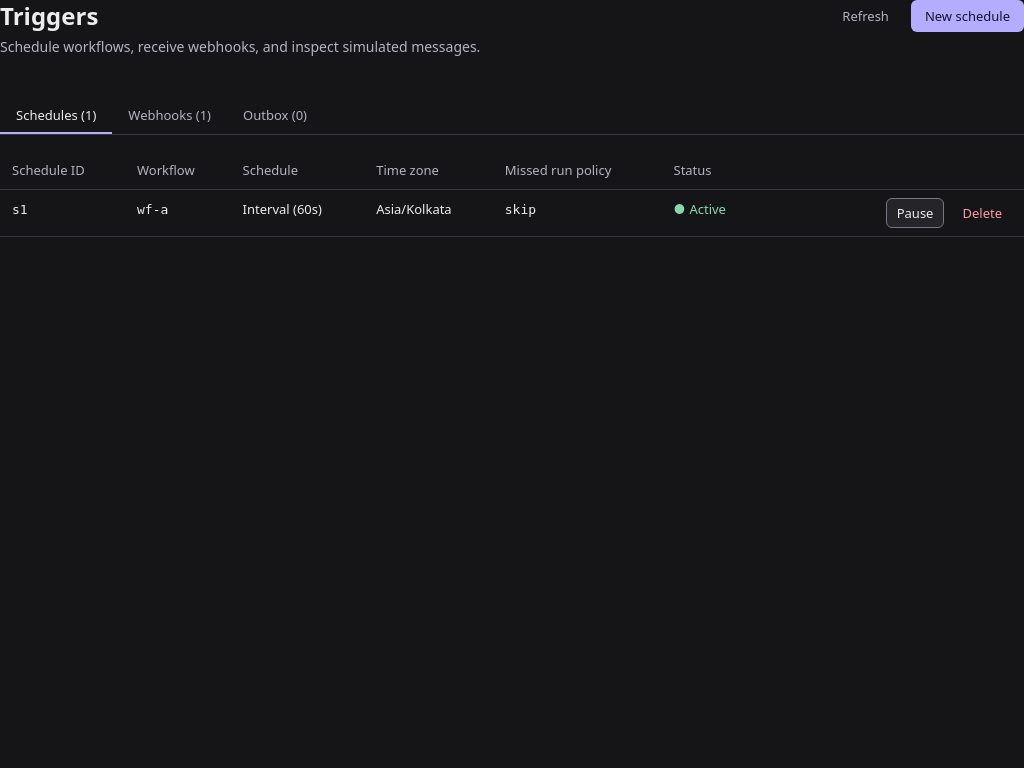
Test: Triggers › labels every schedule form field
Click the button "New schedule". click: (967, 16)
box: [911,0,1023,32]
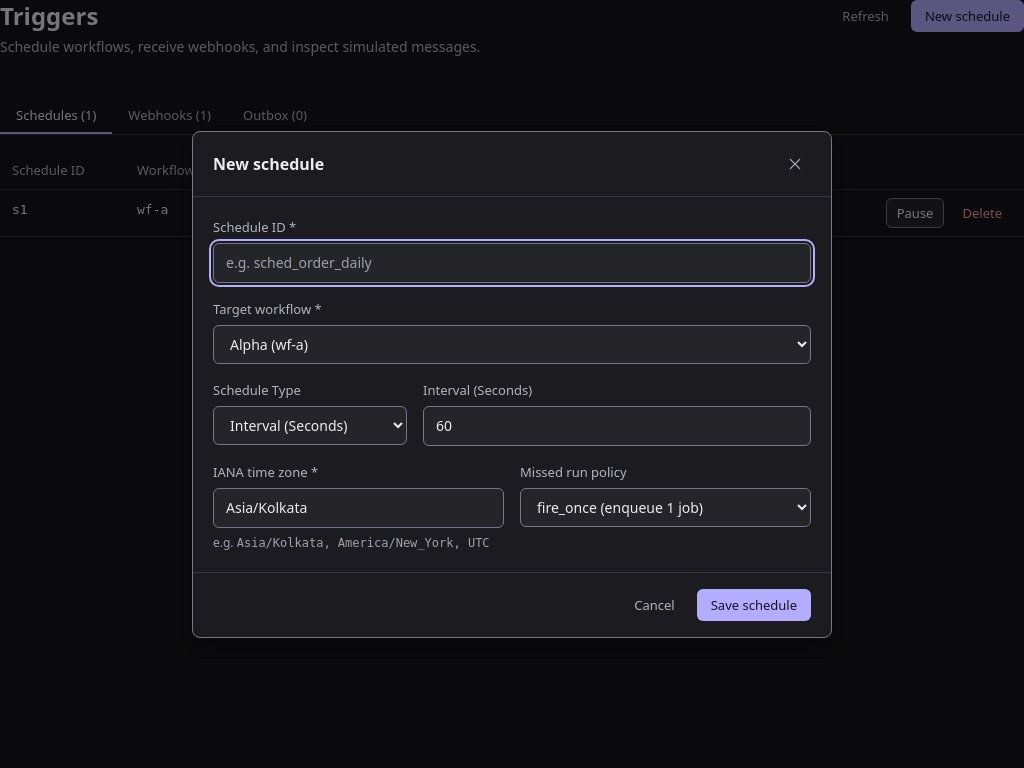
Expected: the field labelled "Schedule ID *" is shown, [213,242,811,282]
Expected: the field labelled "IANA time zone *" is shown, [213,488,504,528]
Expected: the dropdown labelled "Missed run policy" is shown, [520,488,811,526]
